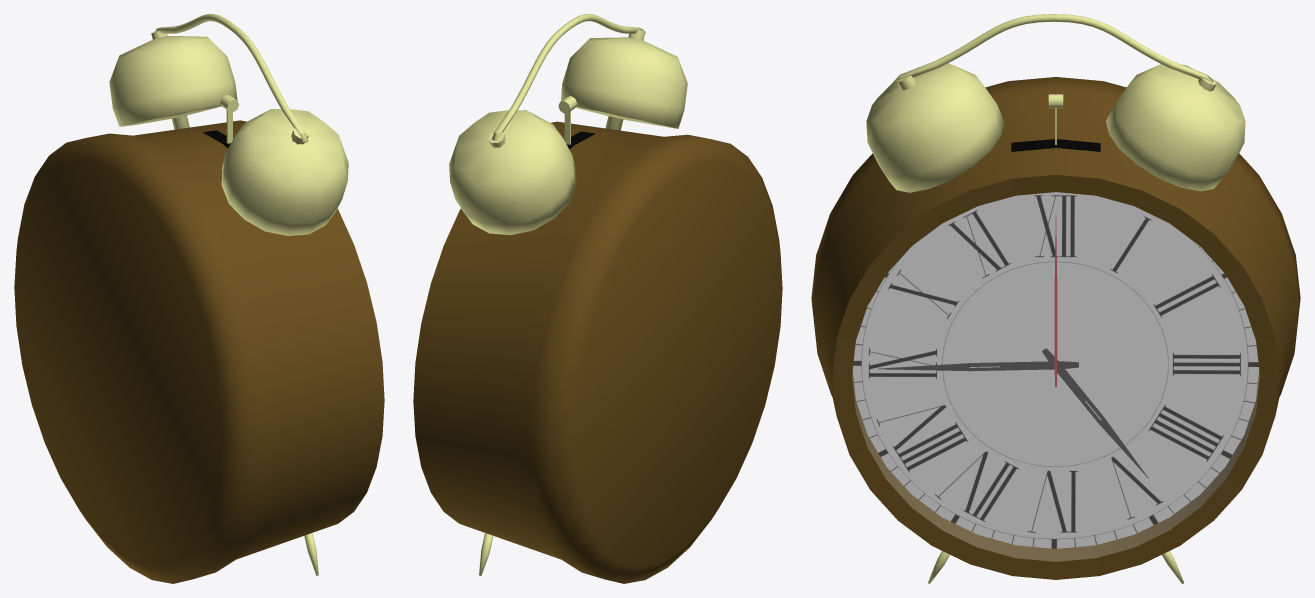
The model's file is AlarmClock.fbx.
The picture shows the model from 3 angles, left to right: view 1: azimuth 30°, elevation 25°; view 2: azimuth 150°, elevation 25°; view 3: azimuth 270°, elevation 25°; orthographic projection. The views are drawn at different scales.
Parts seen in each view (by area): view 1: AlarmClock; view 2: AlarmClock; view 3: AlarmClock.
Part boxes in pixels (left/top/right/bottom): AlarmClock: left=14, top=14, right=384, bottom=583; AlarmClock: left=413, top=14, right=782, bottom=583; AlarmClock: left=811, top=14, right=1300, bottom=583.
Size of the model in its own units: 2.82 by 8.52 by 6.76.
